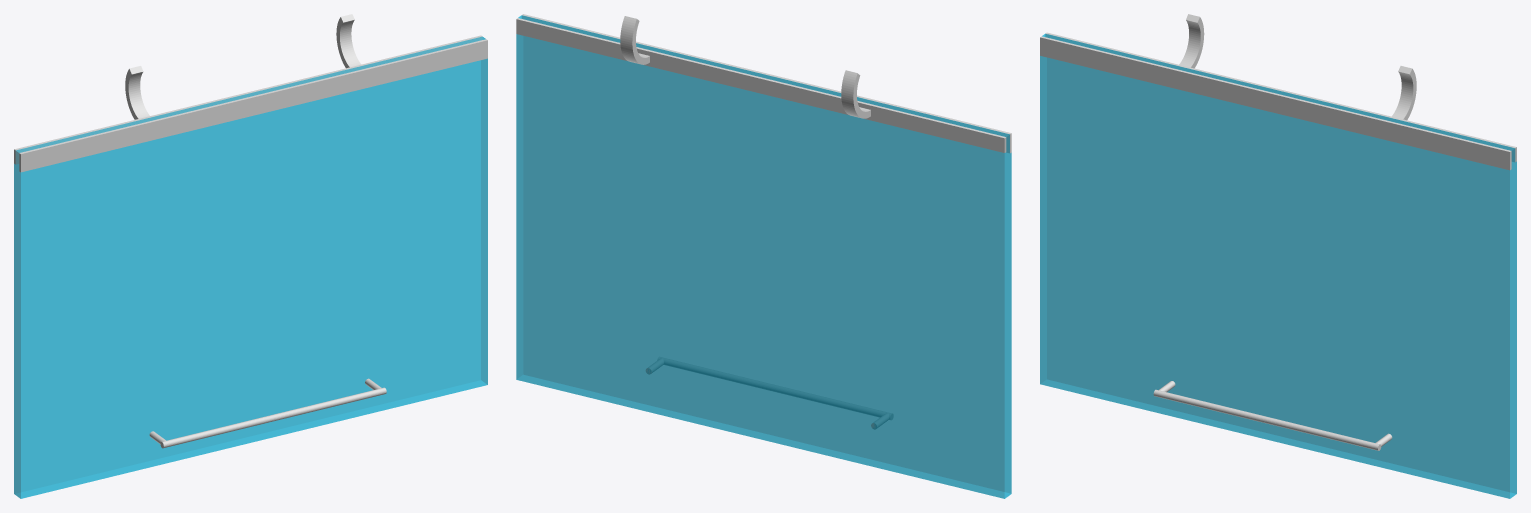
File: ventana.glb
The picture shows the model from 3 angles, left to right: view 1: azimuth 30°, elevation 25°; view 2: azimuth 150°, elevation 25°; view 3: azimuth 330°, elevation 25°; orthographic projection. The views are drawn at different scales.
Visible parts, largest first — view 1: Asset3DLoader.sceneRoot; view 2: Asset3DLoader.sceneRoot; view 3: Asset3DLoader.sceneRoot.
Part boxes in pixels (x1,y1,x2,y2): Asset3DLoader.sceneRoot: [14, 14, 487, 498]; Asset3DLoader.sceneRoot: [516, 14, 1011, 498]; Asset3DLoader.sceneRoot: [1040, 14, 1516, 498].
Size of the model in its own units: 1205 by 950 by 172.
